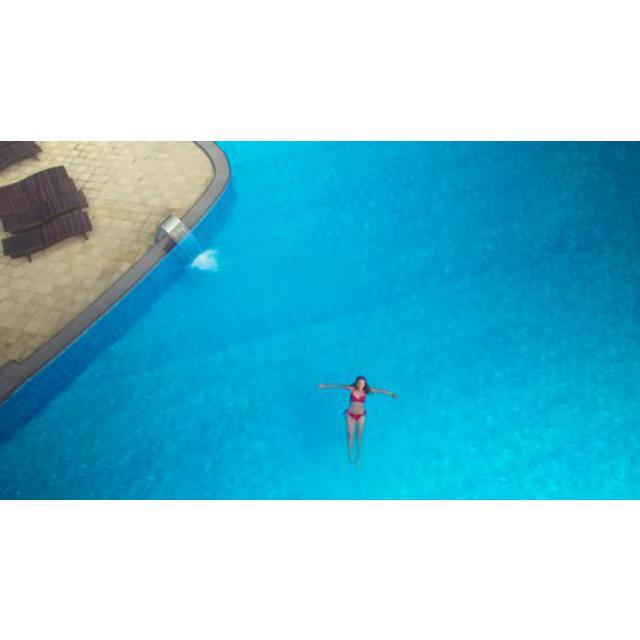human: (319, 375, 401, 463)
